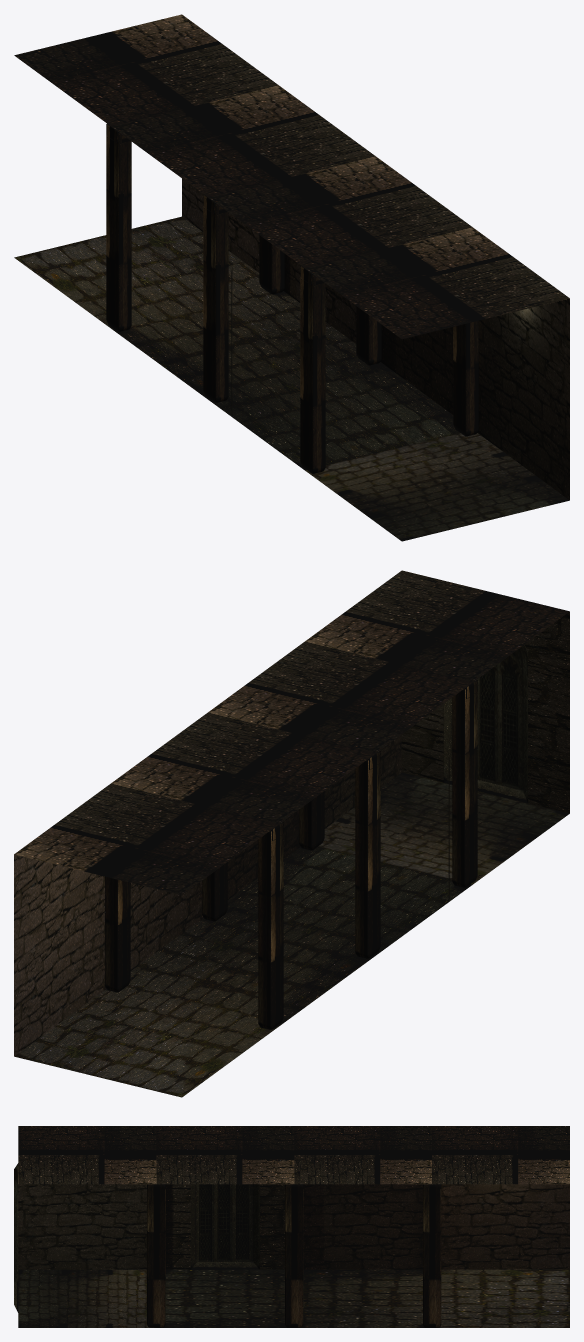
File: corredor.fbx
The picture shows the model from 3 angles, top to bottom: view 1: azimuth 30°, elevation 25°; view 2: azimuth 150°, elevation 25°; view 3: azimuth 270°, elevation 25°; orthographic projection. The views are drawn at different scales.
Visible parts, largest first — view 1: teto01.004, floor01.002, wall01.001, cilindro01.003; view 2: teto01.004, floor01.002, wall01.001, cilindro01.003; view 3: wall01.001, teto01.004, floor01.002, cilindro01.003.
Boxes of the visible parts, x1,y1,x2,y2 form: teto01.004: (14,14,569,339); floor01.002: (14,216,569,541); wall01.001: (182,178,569,500); cilindro01.003: (106,124,478,473); teto01.004: (14,570,569,895); floor01.002: (14,772,569,1097); wall01.001: (14,611,569,1056); cilindro01.003: (105,680,477,1029); wall01.001: (14,1163,569,1312); teto01.004: (18,1126,569,1184); floor01.002: (18,1269,569,1327); cilindro01.003: (147,1184,441,1327).
Size of the model in its own units: 206 by 230 by 806.
